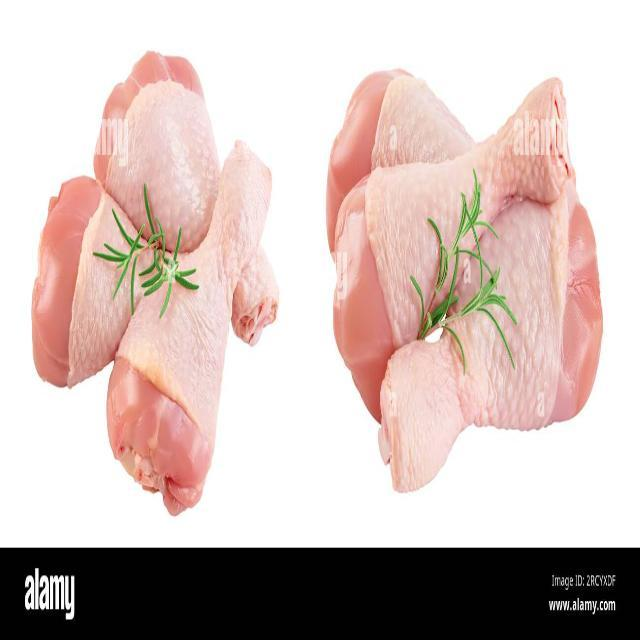leg: (318, 84, 566, 407), (382, 193, 601, 480), (95, 31, 280, 343), (116, 118, 263, 506), (16, 174, 210, 398), (320, 60, 477, 214)
